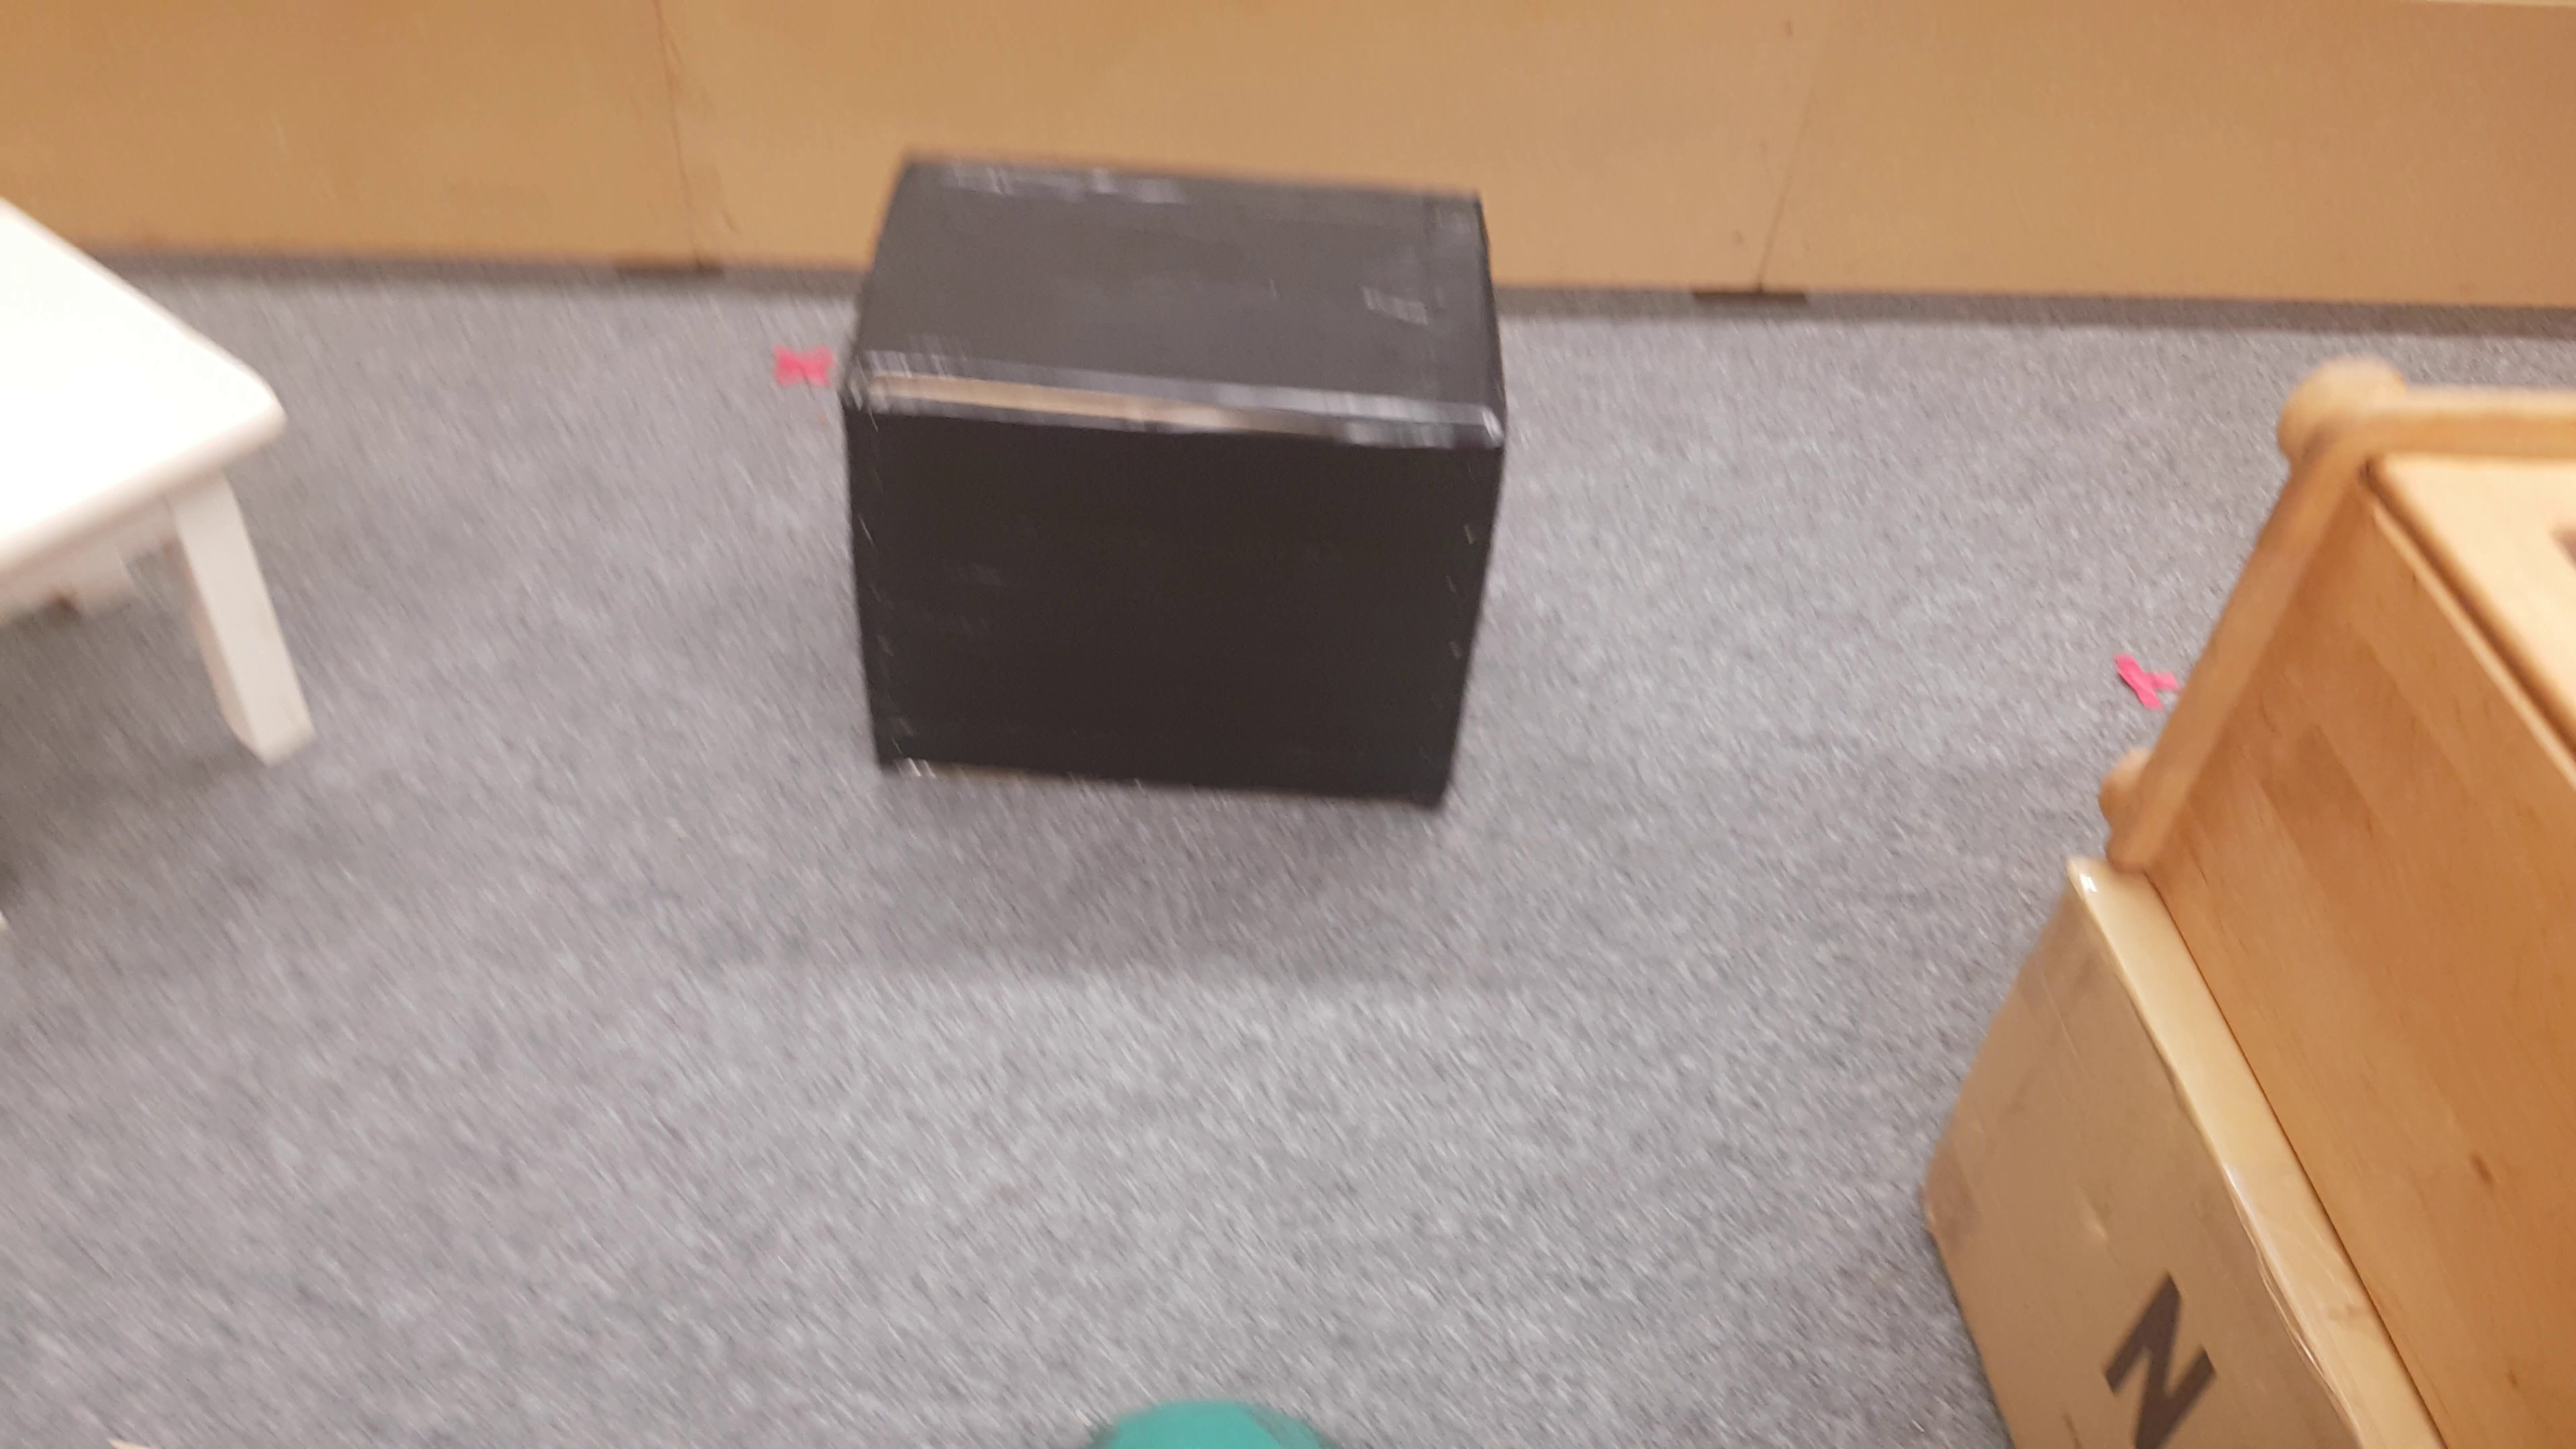kick: (1088, 1403, 1313, 1449)
push: (832, 150, 1511, 830)
